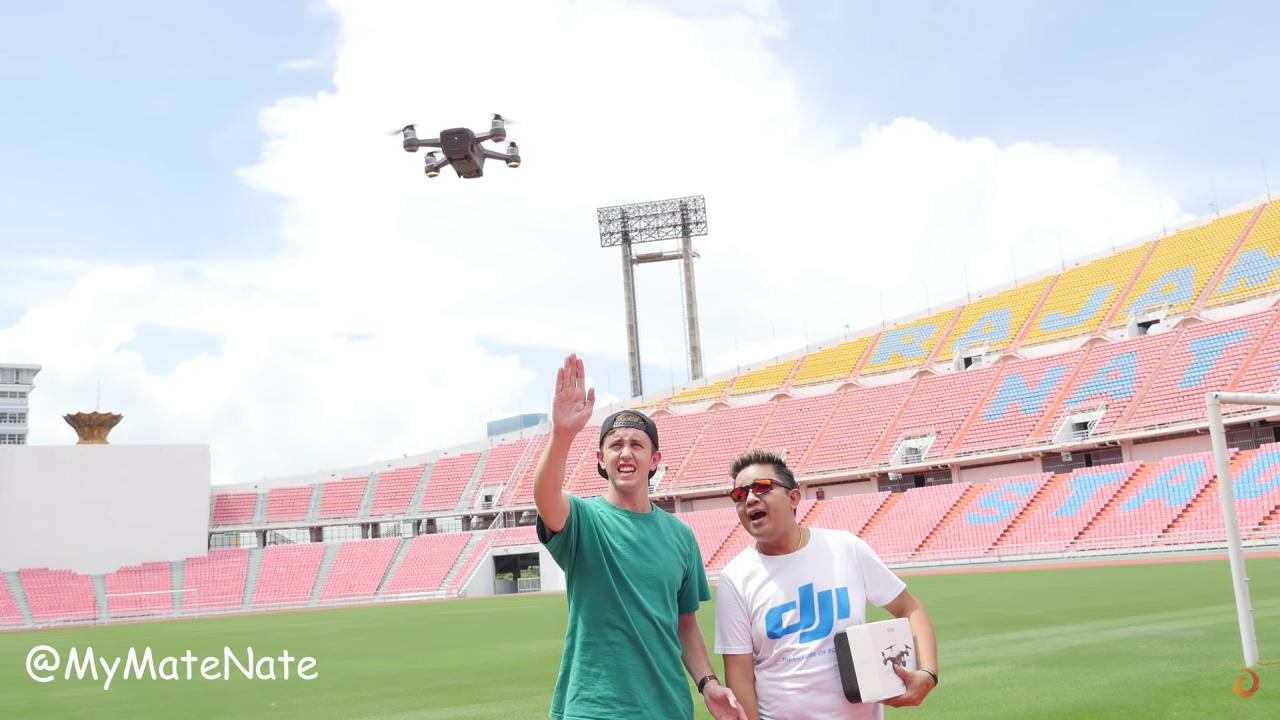Drone: (368, 91, 549, 198)
